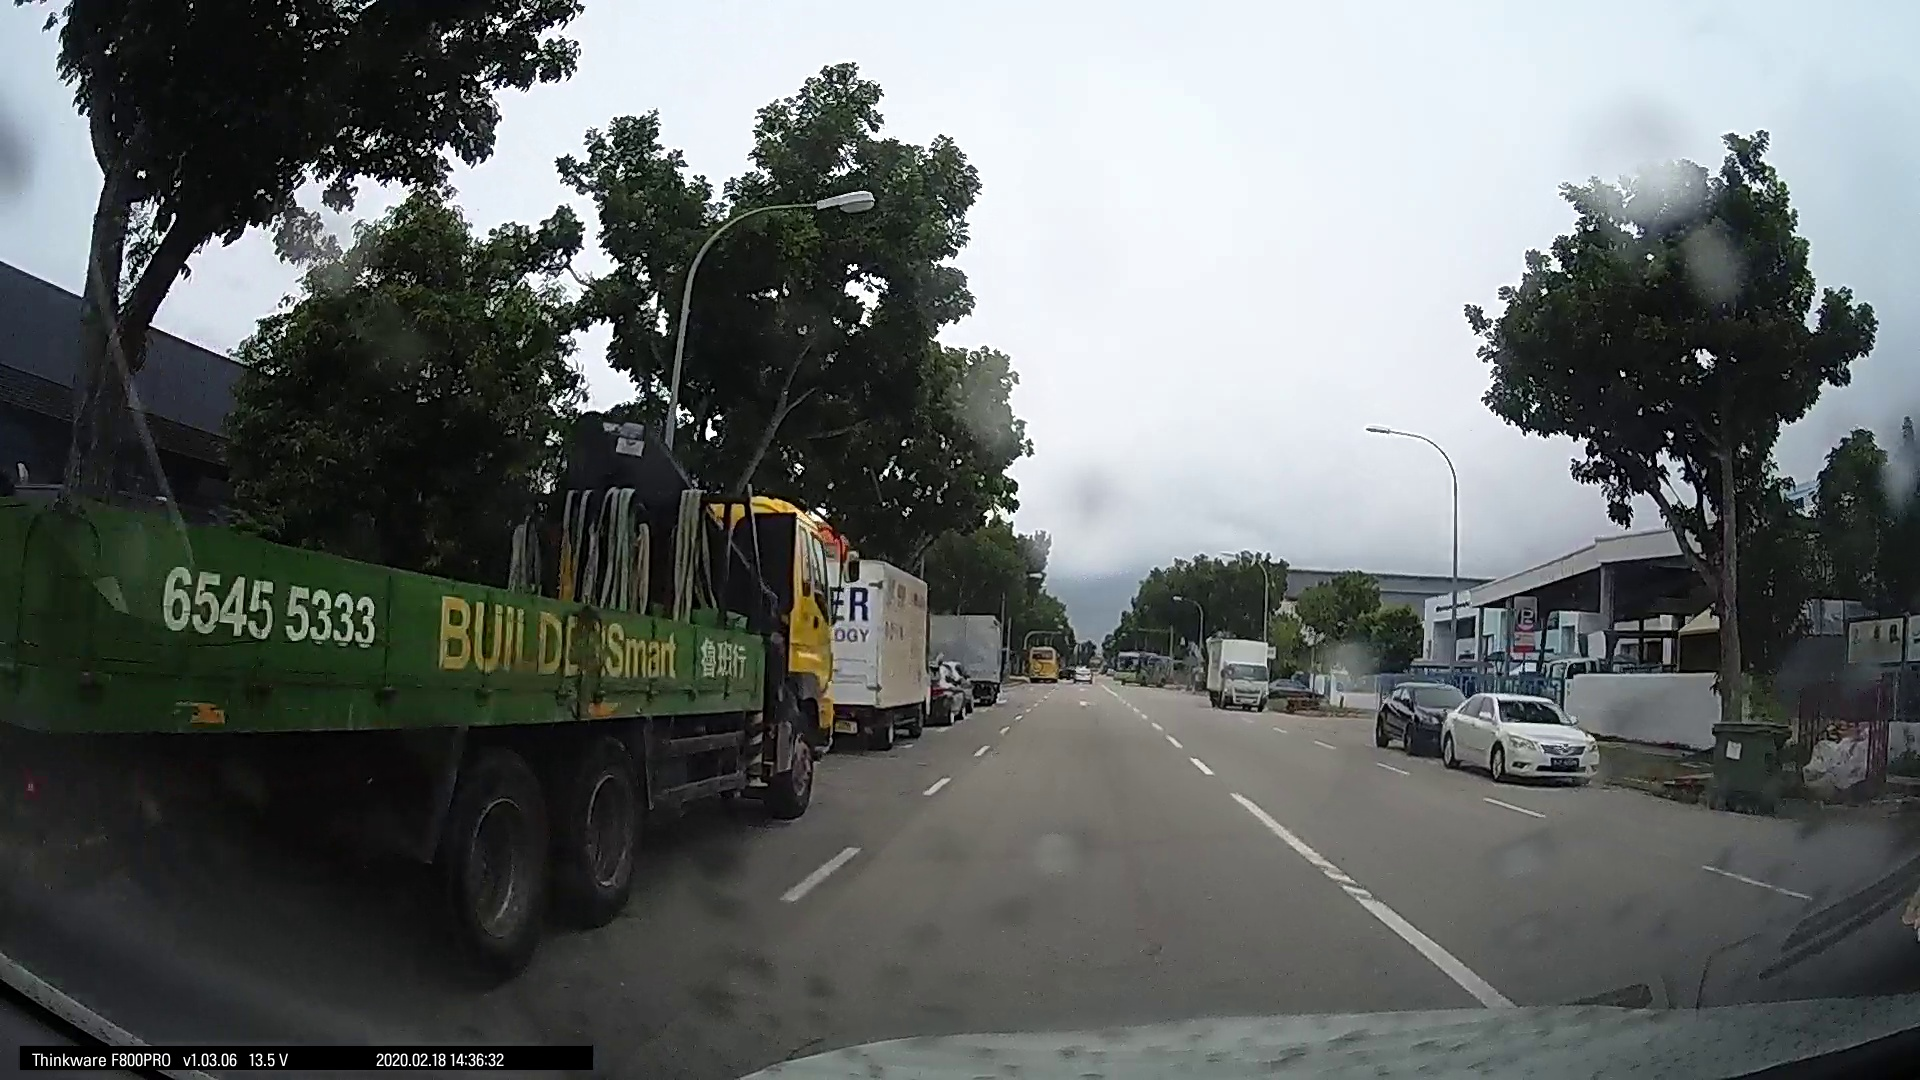Heavy Vehicle: (76, 465, 783, 943), (816, 558, 934, 754), (931, 603, 1001, 707), (1203, 637, 1273, 709)
Light Vehicle: (1435, 682, 1596, 787), (1367, 666, 1456, 753)
